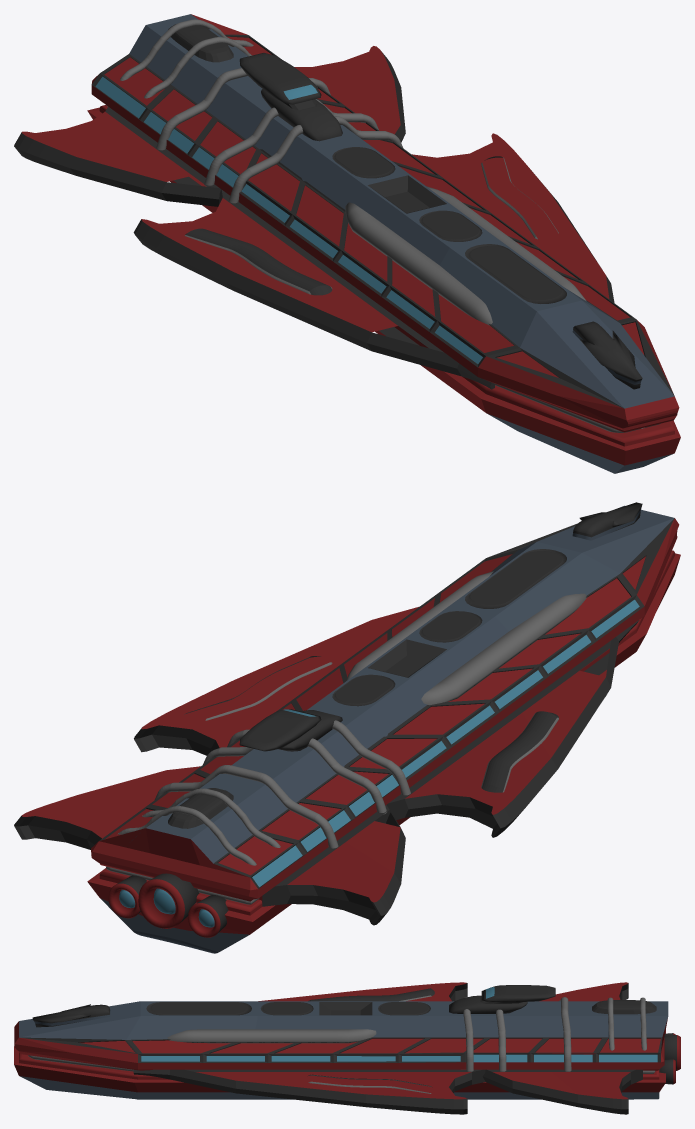
The model's file is spaceship2.glb.
The picture shows the model from 3 angles, top to bottom: view 1: azimuth 30°, elevation 25°; view 2: azimuth 150°, elevation 25°; view 3: azimuth 270°, elevation 25°; orthographic projection. The views are drawn at different scales.
Visible parts, largest first — view 1: Object_7, Object_3, Object_2, Object_6, Object_5, Object_4; view 2: Object_7, Object_3, Object_2, Object_6, Object_5, Object_4; view 3: Object_7, Object_3, Object_2, Object_4, Object_5, Object_6.
Boxes of the visible parts, left/top/right/bottom form: Object_7: left=22, top=14, right=680, bottom=465; Object_3: left=14, top=24, right=674, bottom=407; Object_2: left=129, top=14, right=674, bottom=473; Object_6: left=120, top=19, right=558, bottom=294; Object_5: left=106, top=105, right=660, bottom=432; Object_4: left=95, top=76, right=482, bottom=363; Object_7: left=21, top=518, right=680, bottom=937; Object_3: left=14, top=502, right=674, bottom=932; Object_2: left=100, top=505, right=674, bottom=953; Object_6: left=118, top=657, right=558, bottom=865; Object_5: left=106, top=571, right=586, bottom=904; Object_4: left=119, top=599, right=639, bottom=927; Object_7: left=14, top=982, right=680, bottom=1099; Object_3: left=21, top=983, right=676, bottom=1114; Object_2: left=19, top=1001, right=668, bottom=1099; Object_4: left=141, top=987, right=657, bottom=1062; Object_5: left=28, top=1029, right=655, bottom=1073; Object_6: left=308, top=995, right=646, bottom=1093.
Bounding box in the file's own units: 8.85 × 3.32 × 20.48.
